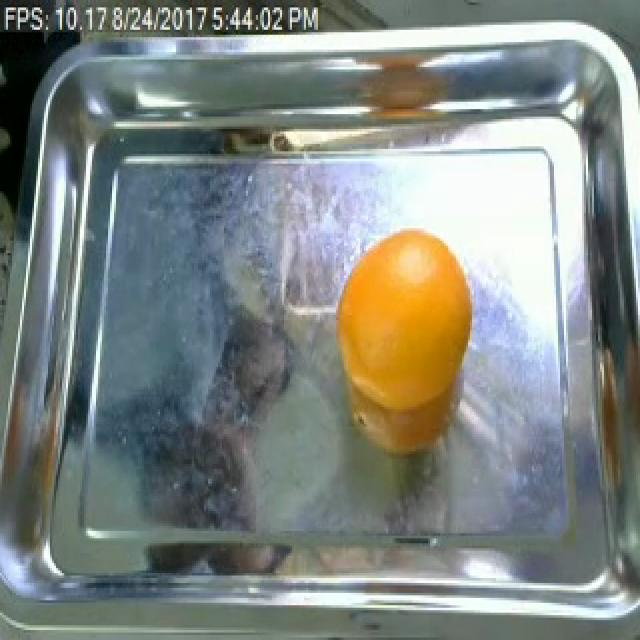Fruit: (328, 221, 476, 461)
